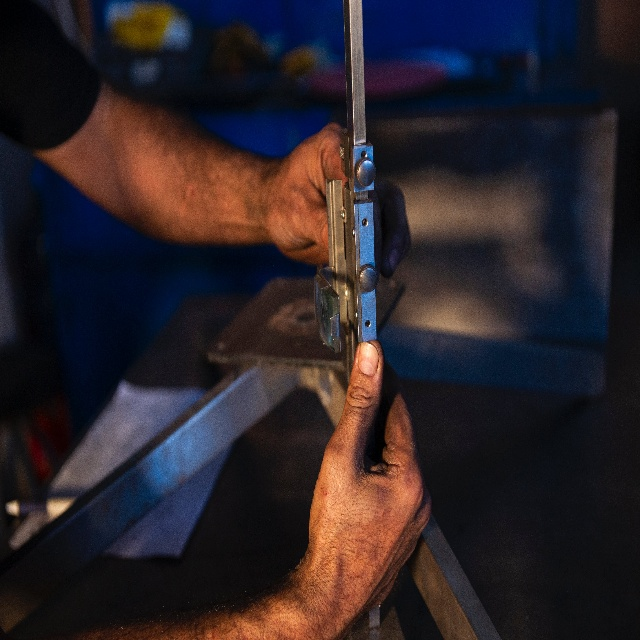Sin_guantes: (307, 338, 433, 624), (263, 120, 412, 279)
